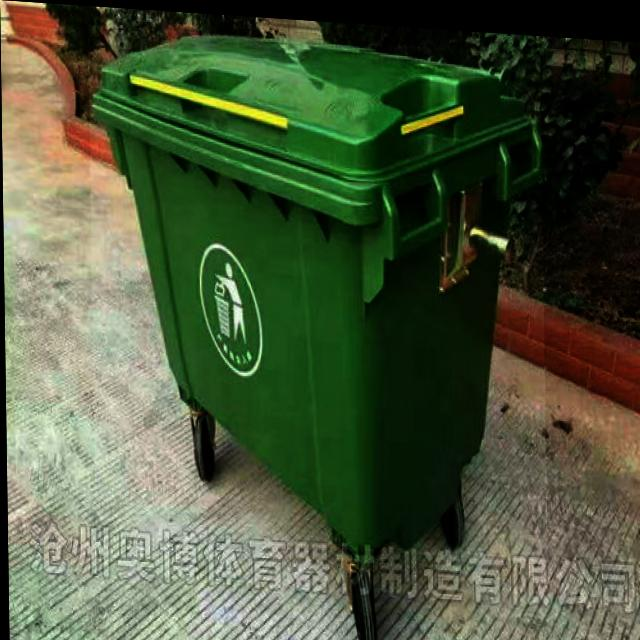garbage_bin: (88, 23, 546, 555)
